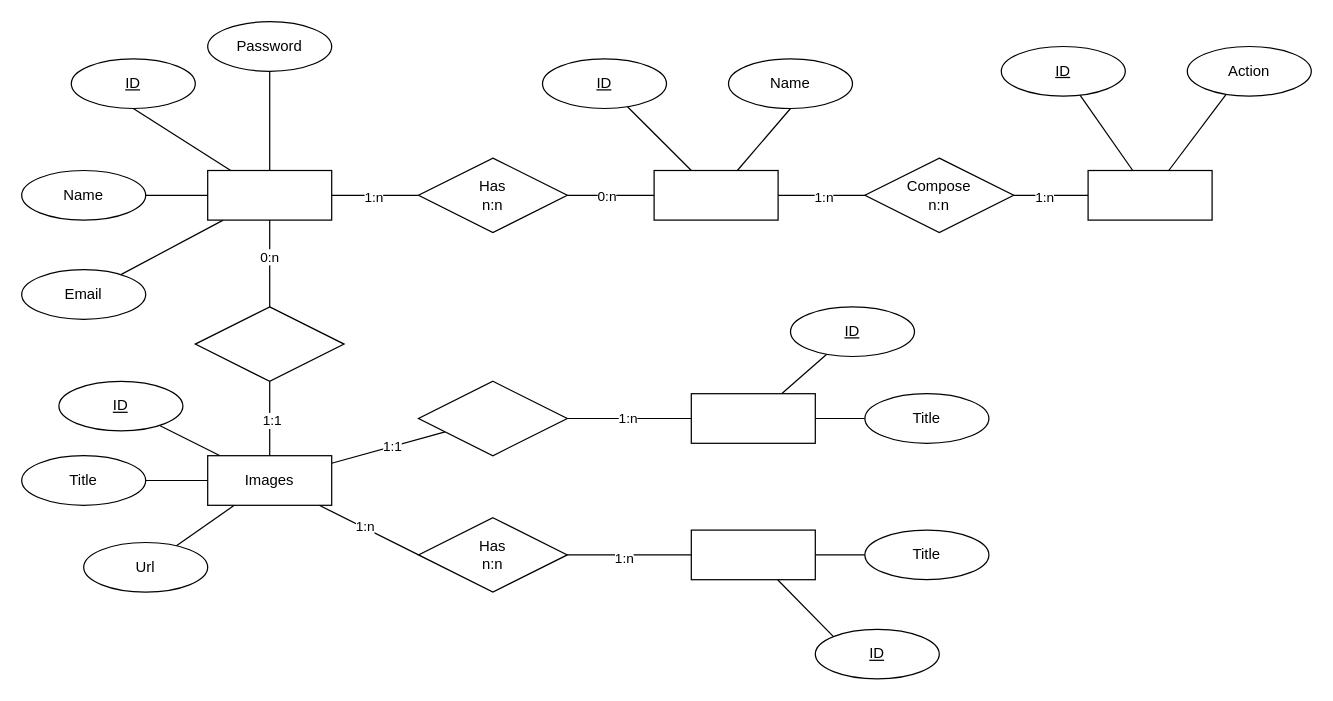
Some shapes in this 1333 by 701 pixel diagram are drawn without their labels. Here are the shapes that lost their labels. From the top down, the centre of each, then its label:
(x=269, y=194): Users
(x=715, y=194): Roles
(x=1149, y=194): Permissions
(x=269, y=343): Can Upload 1:n
(x=492, y=418): Has 1:n
(x=752, y=417): Categories
(x=752, y=554): Tags
